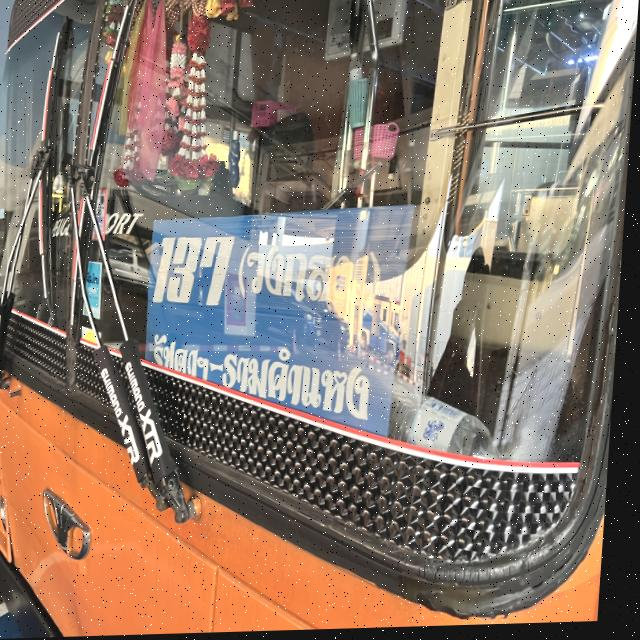Destination Sign: (148, 207, 415, 440)
